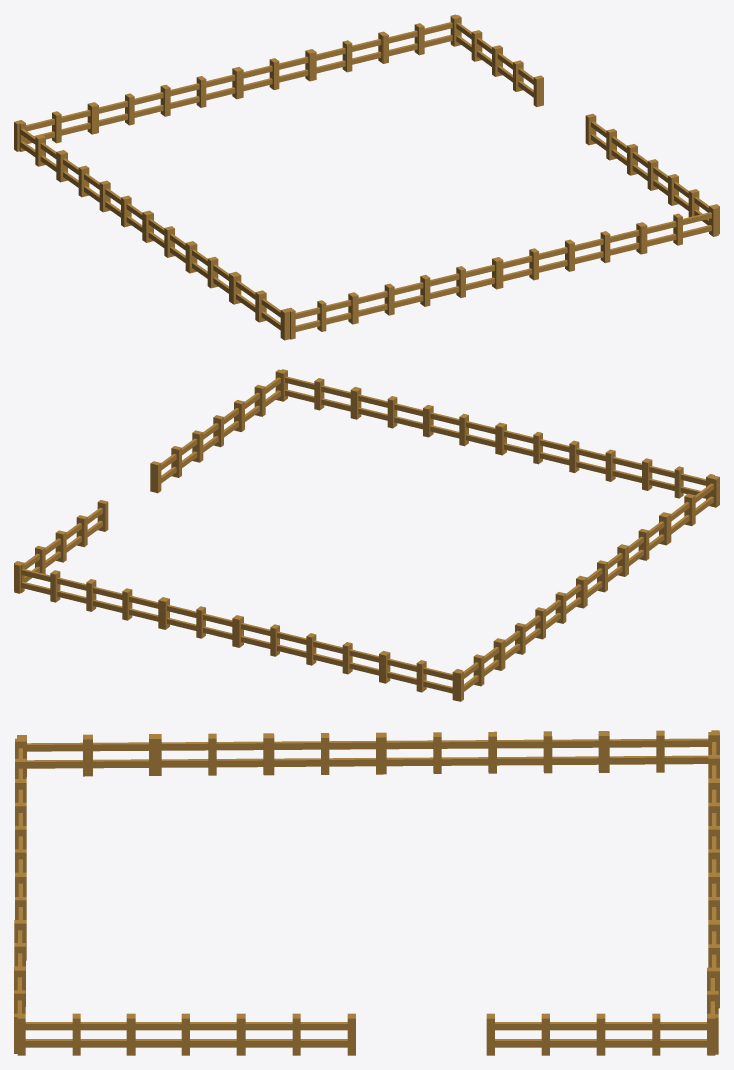
Rendered from ground+fences.glb.
The picture shows the model from 3 angles, top to bottom: view 1: azimuth 30°, elevation 25°; view 2: azimuth 150°, elevation 25°; view 3: azimuth 270°, elevation 25°; orthographic projection. The views are drawn at different scales.
Visible parts, largest first — view 1: fence_simpleCenter.009, fence_simpleCenter.008, fence_simpleCenter.010, fence_simpleCenter.011, fence_simpleCenter.023, fence_simpleCenter.006, fence_simpleCenter.012, fence_simpleCenter.015, fence_simpleCenter.007, fence_simpleCenter.016, fence_simpleCenter.013, fence_simpleCenter.014 (+11 smaller); view 2: fence_simpleCenter.013, fence_simpleCenter.008, fence_simpleCenter.012, fence_simpleCenter.007, fence_simpleCenter.016, fence_simpleCenter.010, fence_simpleCenter.011, fence_simpleCenter.015, fence_simpleCenter.014, fence_simpleCenter.006, fence_simpleCenter.001, fence_simpleCenter.023 (+11 smaller); view 3: fence_simpleCenter.018, fence_simpleCenter.004, fence_simpleCenter.001, fence_simpleCenter.020, fence_simpleCenter.023, fence_simpleCenter.002, fence_simpleCenter.003, fence_simpleCenter.005, fence_simpleCenter.022, fence_simpleCenter.019, fence_simpleCenter.021, fence_simpleCenter.006 (+10 smaller).
Part boxes in pixels (x1,y1,x2,y2): fence_simpleCenter.009: (638,206,718,254); fence_simpleCenter.008: (565,222,645,271); fence_simpleCenter.010: (234,49,312,98); fence_simpleCenter.011: (161,67,241,116); fence_simpleCenter.023: (230,272,289,340); fence_simpleCenter.006: (379,14,460,63); fence_simpleCenter.012: (90,85,168,133); fence_simpleCenter.015: (421,257,500,306); fence_simpleCenter.007: (307,31,387,80); fence_simpleCenter.016: (349,276,430,324); fence_simpleCenter.013: (16,103,96,151); fence_simpleCenter.014: (494,239,574,288); fence_simpleCenter.013: (380,652,462,701); fence_simpleCenter.008: (351,387,433,436); fence_simpleCenter.012: (306,633,388,682); fence_simpleCenter.007: (86,579,167,628); fence_simpleCenter.016: (569,441,651,489); fence_simpleCenter.010: (160,597,241,646); fence_simpleCenter.011: (234,616,310,664); fence_simpleCenter.015: (497,423,578,472); fence_simpleCenter.014: (423,405,504,454); fence_simpleCenter.006: (14,561,96,607); fence_simpleCenter.001: (150,430,202,493); fence_simpleCenter.023: (660,475,719,544); fence_simpleCenter.018: (153,733,271,775); fence_simpleCenter.004: (486,1013,604,1055); fence_simpleCenter.001: (237,1013,355,1055); fence_simpleCenter.020: (378,731,496,774); fence_simpleCenter.023: (17,734,158,776); fence_simpleCenter.002: (126,1013,244,1055); fence_simpleCenter.003: (17,1013,135,1055); fence_simpleCenter.005: (597,1013,715,1055); fence_simpleCenter.022: (601,730,719,772); fence_simpleCenter.019: (266,732,384,775); fence_simpleCenter.021: (490,731,606,773); fence_simpleCenter.006: (707,967,718,1054).
Size of what is drawn, in the model's own units: 28.84 by 1.73 by 29.83.
